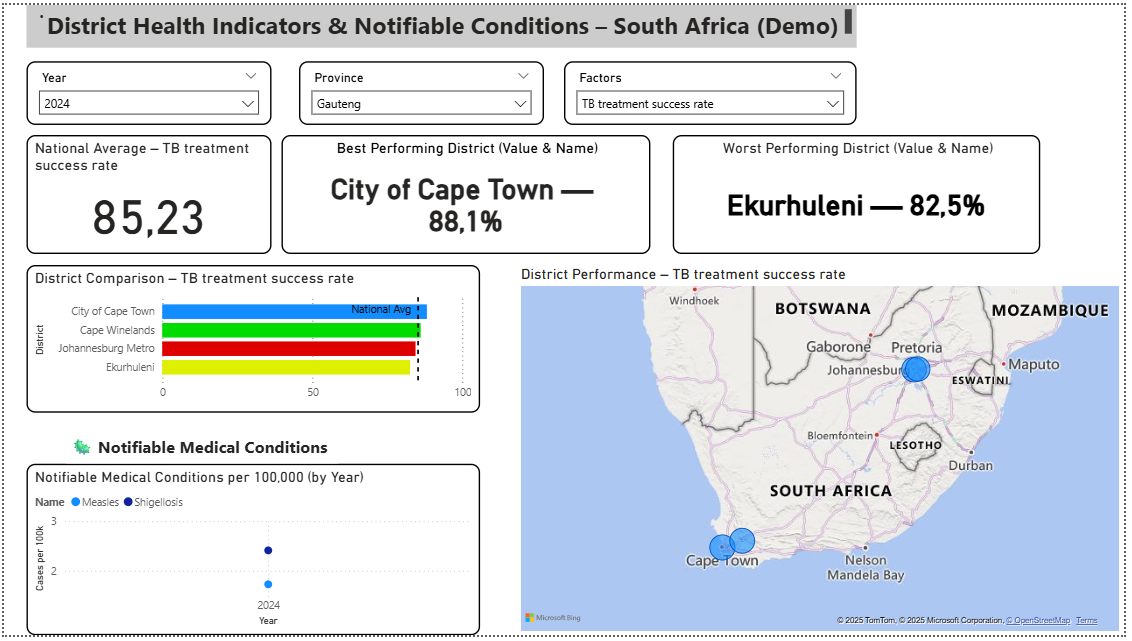

Layout of this report page (visuals, bound fields, positions):
{"tool":"powerbi","page":{"name":"Page 1","canvas":[1280,720],"ordinal":0},"visuals":[{"type":"slicer","fields":{"Values":["dim_year.Year"]},"box":[25.7,64.3,280,72.9],"z":0},{"type":"slicer","fields":{"Values":["dim_province.Province"]},"box":[337.1,64.3,280,72.9],"z":1000},{"type":"slicer","fields":{"Values":["dim_indicator.Name"]},"box":[640,64.3,334.3,72.9],"z":2000},{"type":"card","fields":{"Values":["_Measures.National Avg"]},"box":[25.7,148.6,280,135.7],"z":3000},{"type":"card","title":"Worst Performing District (Value & Name)","fields":{"Values":["_Measures.Worst District (Name & Value)"]},"box":[764.3,148.6,420,135.7],"z":4000},{"type":"card","title":"Best Performing District (Value & Name)","fields":{"Values":["_Measures.Best District (Name & Value)"]},"box":[317.1,148.6,421.4,135.7],"z":5000},{"type":"clusteredBarChart","fields":{"Y":["_Measures.Indicator Value"],"Category":["dim_geography.District"]},"box":[25.7,297.1,518.6,168.6],"z":6000},{"type":"lineChart","title":"Notifiable Medical Conditions per 100,000 (by Year)","fields":{"Category":["dim_time.Date.Variation.Date Hierarchy.Year","dim_time.Date.Variation.Date Hierarchy.Quarter","dim_time.Date.Variation.Date Hierarchy.Month","dim_time.Date.Variation.Date Hierarchy.Day"],"Y":["_Measures.Cases per 100k"],"Series":["dim_condition.Name"]},"box":[25.7,524.3,518.6,195.7],"z":7000},{"type":"map","fields":{"Y":["dim_geography.Lat"],"X":["dim_geography.Long"],"Size":["_Measures.Indicator Value"]},"box":[585.7,297.1,694.3,422.9],"z":8000},{"type":"textbox","box":[71.4,487.1,310,37.1],"z":8001},{"type":"textbox","box":[25.7,0,948.6,48.6],"z":8002}]}

Visuals, with their boxes in screenshot pixels (x1, y1, x2, y2), scaled from the page's 1280x720 canvas onto the 1132x641 screenshot:
slicer - dim_year.Year: {"x1": 23, "y1": 57, "x2": 270, "y2": 122}
slicer - dim_province.Province: {"x1": 298, "y1": 57, "x2": 546, "y2": 122}
slicer - dim_indicator.Name: {"x1": 566, "y1": 57, "x2": 862, "y2": 122}
card - _Measures.National Avg: {"x1": 23, "y1": 132, "x2": 270, "y2": 253}
"Worst Performing District (Value & Name)" card: {"x1": 676, "y1": 132, "x2": 1047, "y2": 253}
"Best Performing District (Value & Name)" card: {"x1": 280, "y1": 132, "x2": 653, "y2": 253}
clusteredBarChart - _Measures.Indicator Value x dim_geography.District: {"x1": 23, "y1": 265, "x2": 481, "y2": 415}
"Notifiable Medical Conditions per 100,000 (by Year)" lineChart: {"x1": 23, "y1": 467, "x2": 481, "y2": 640}
map - dim_geography.Lat x dim_geography.Long: {"x1": 518, "y1": 265, "x2": 1131, "y2": 640}
textbox: {"x1": 63, "y1": 434, "x2": 337, "y2": 467}
textbox: {"x1": 23, "y1": 0, "x2": 862, "y2": 43}
